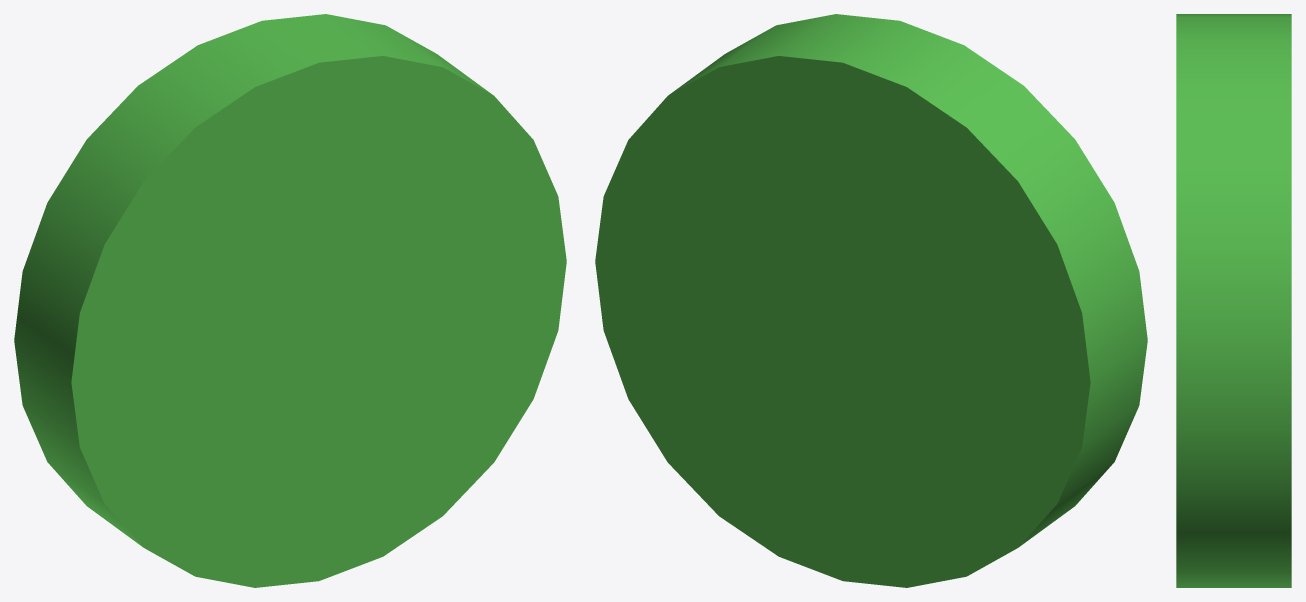
File: TumbleSat1.obj
3 renders of one model, left to right at view 1: azimuth 30°, elevation 25°; view 2: azimuth 150°, elevation 25°; view 3: azimuth 270°, elevation 25°, orthographic.
Visible parts, largest first — view 1: cylinder2; view 2: cylinder2; view 3: cylinder2.
Part boxes in pixels (x1,y1,x2,y2): cylinder2: (14, 14, 566, 587); cylinder2: (595, 14, 1147, 587); cylinder2: (1176, 14, 1291, 587).
Size of the model in its own units: 1 by 1 by 0.2.
